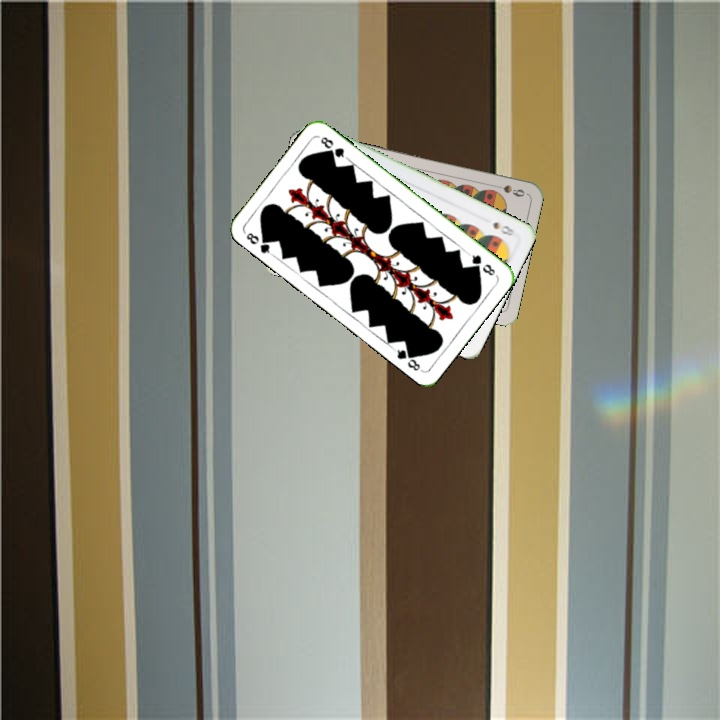G8: (241, 228, 276, 258), (464, 249, 498, 278)
S8: (489, 218, 517, 238)
S9: (488, 181, 527, 199)
